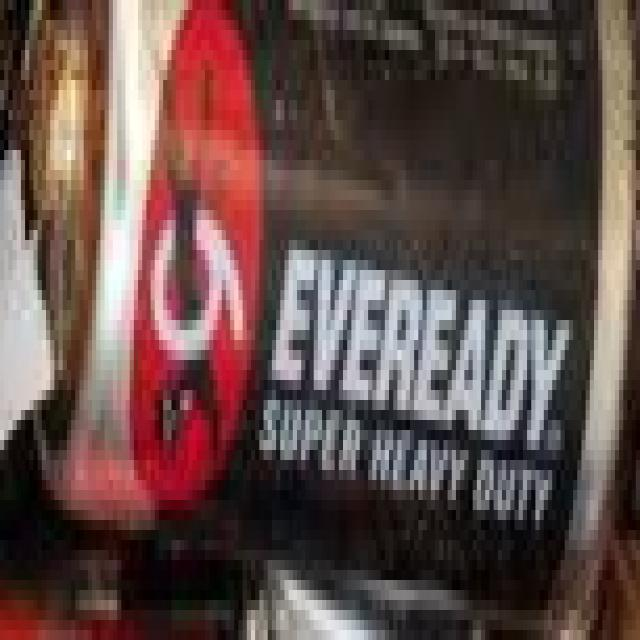battery: (16, 0, 640, 610)
